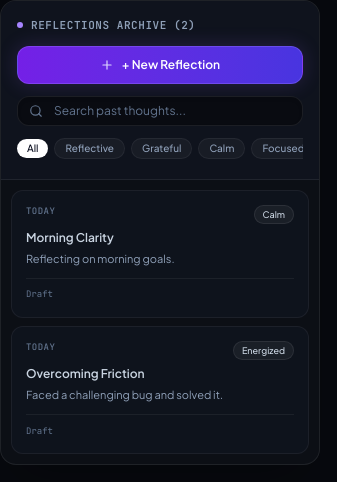
Test: Frontend Component Tests › HistorySidebar Component › should filter reflection entries via search input
The image size is (337, 482).
In the field with placeholder "Search past thoughts...": (160, 110) [17,96,303,126], type "Friction"
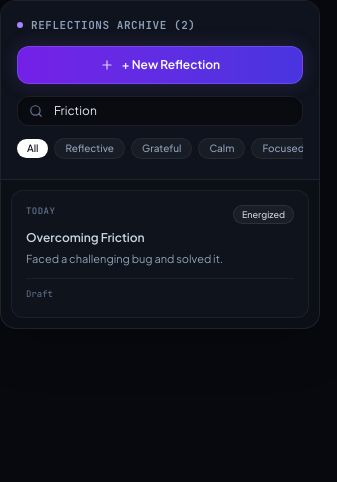
Expected: the text "Overcoming Friction" is shown, [26,230,145,245]
Expected: the text "Morning Clarity" is gone
